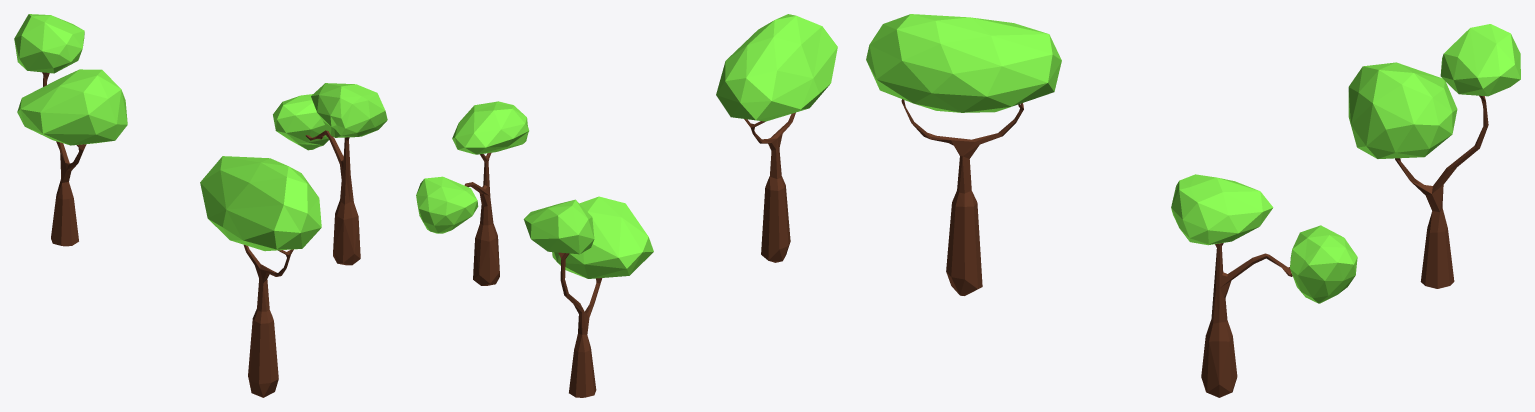
Rendered from LastAttemptBetterTree.fbx.
3 renders of one model, left to right at view 1: azimuth 30°, elevation 25°; view 2: azimuth 150°, elevation 25°; view 3: azimuth 270°, elevation 25°, orthographic. The views are drawn at different scales.
Visible parts, largest first — view 1: Icosphere, Icosphere.002, Icosphere.001; view 2: Icosphere, Icosphere.002, Icosphere.001; view 3: Icosphere, Icosphere.002, Icosphere.001.
Boxes of the visible parts, bbox=[...] form: Icosphere: bbox=[200, 156, 321, 397]; Icosphere.002: bbox=[14, 14, 127, 246]; Icosphere.001: bbox=[273, 83, 387, 265]; Icosphere: bbox=[716, 14, 837, 262]; Icosphere.002: bbox=[523, 196, 653, 397]; Icosphere.001: bbox=[416, 101, 529, 285]; Icosphere: bbox=[866, 14, 1061, 295]; Icosphere.002: bbox=[1348, 24, 1520, 288]; Icosphere.001: bbox=[1171, 174, 1357, 397].
Size of the model in its own units: 1417 by 1170 by 2453.
